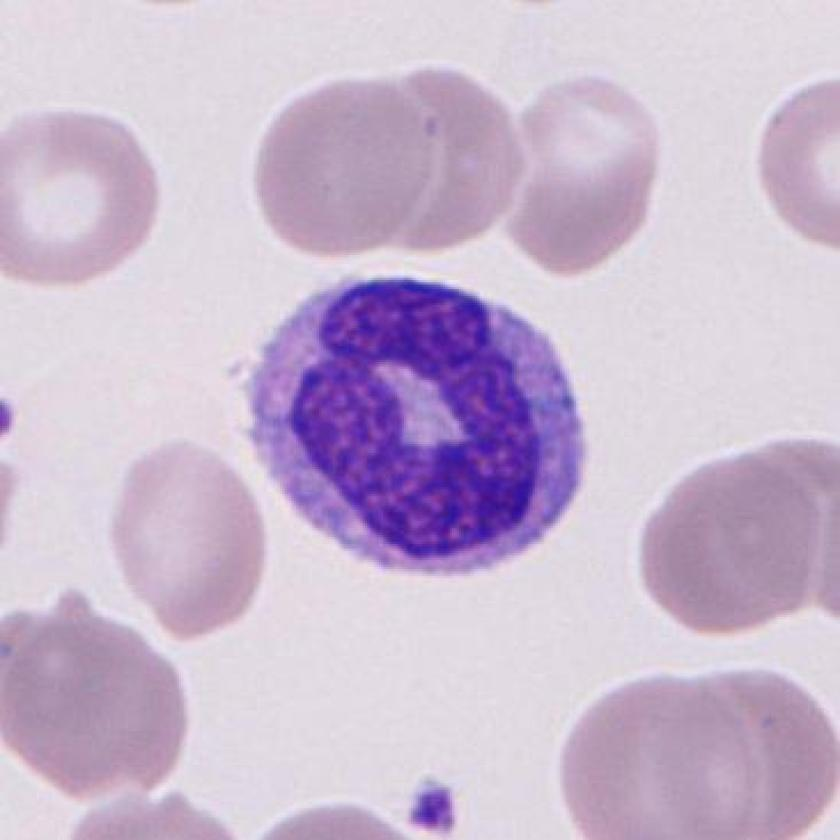monocyte: (226, 249, 616, 598)
